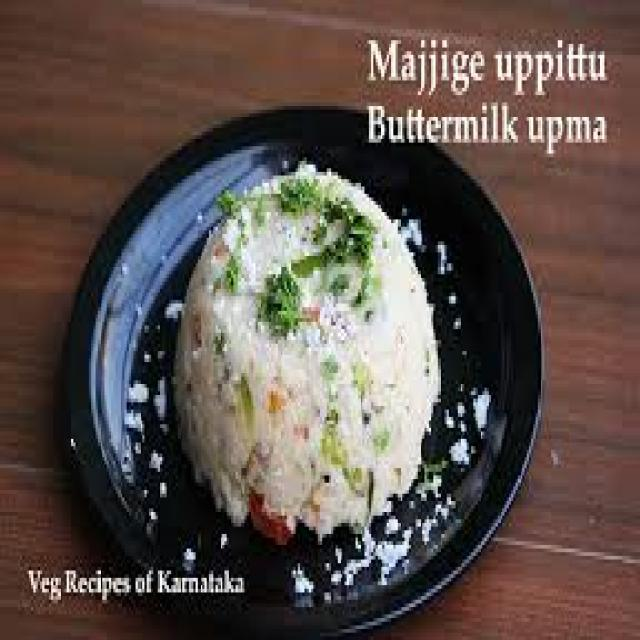UPMA: (169, 161, 438, 534)
